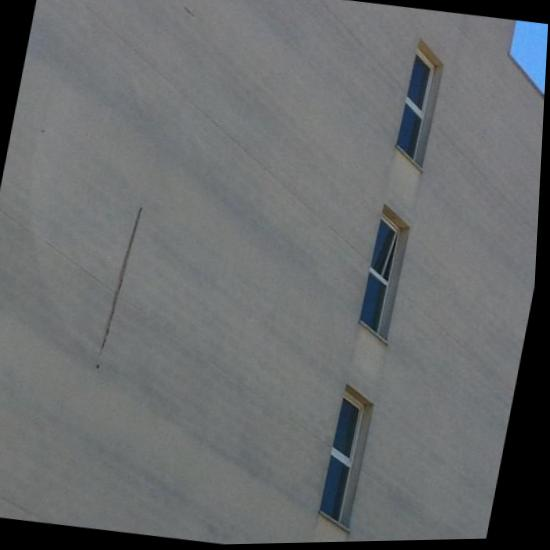crack: (105, 208, 144, 349)
